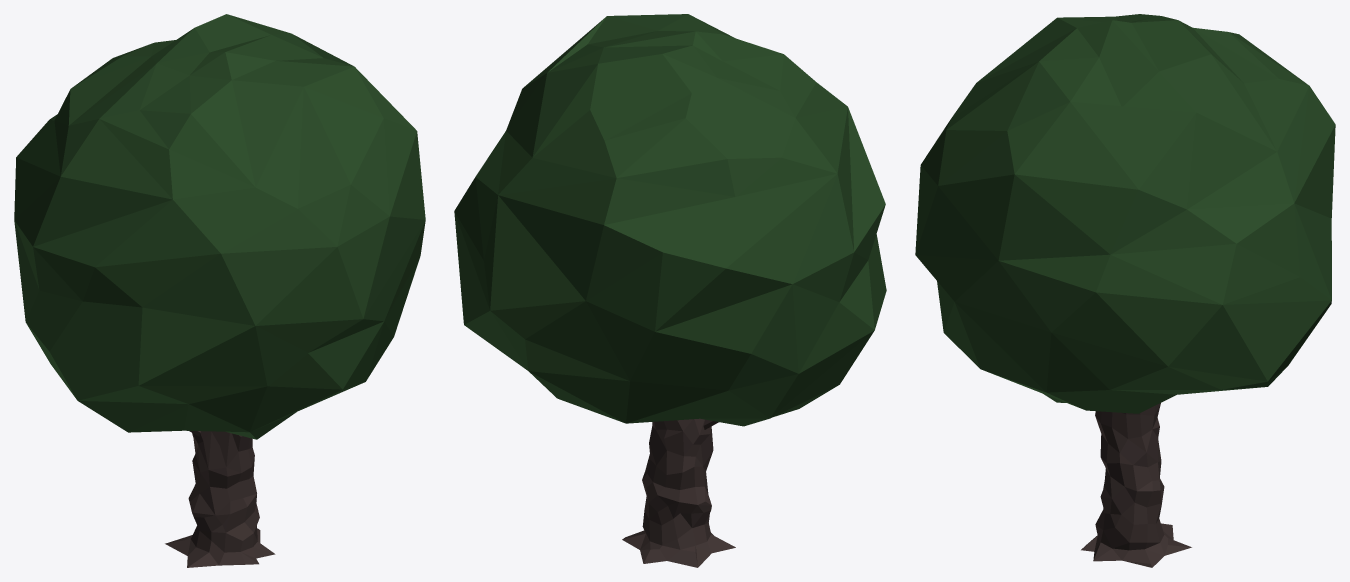
Rendered from tree_grand.fbx.
The picture shows the model from 3 angles, left to right: view 1: azimuth 30°, elevation 25°; view 2: azimuth 150°, elevation 25°; view 3: azimuth 270°, elevation 25°; orthographic projection. The views are drawn at different scales.
Visible parts, largest first — view 1: Sphere; view 2: Sphere; view 3: Sphere.
Part boxes in pixels (box(x1,y1,x2,y2)): Sphere: box(14, 14, 425, 567); Sphere: box(454, 14, 886, 567); Sphere: box(915, 14, 1335, 567).
Size of the model in its own units: 595 by 786 by 574.
